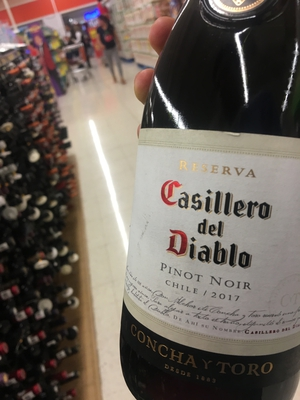casillero del diablo pinot noir: (98, 37, 300, 390)
